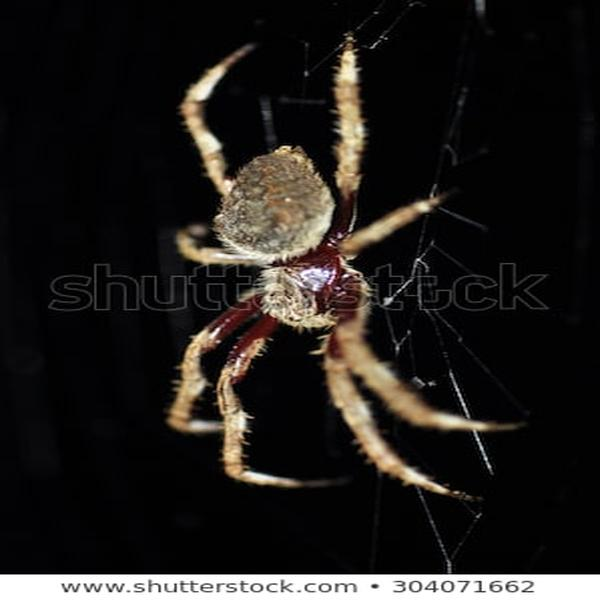Garden Orb Weaver Spider: (167, 58, 496, 495)
